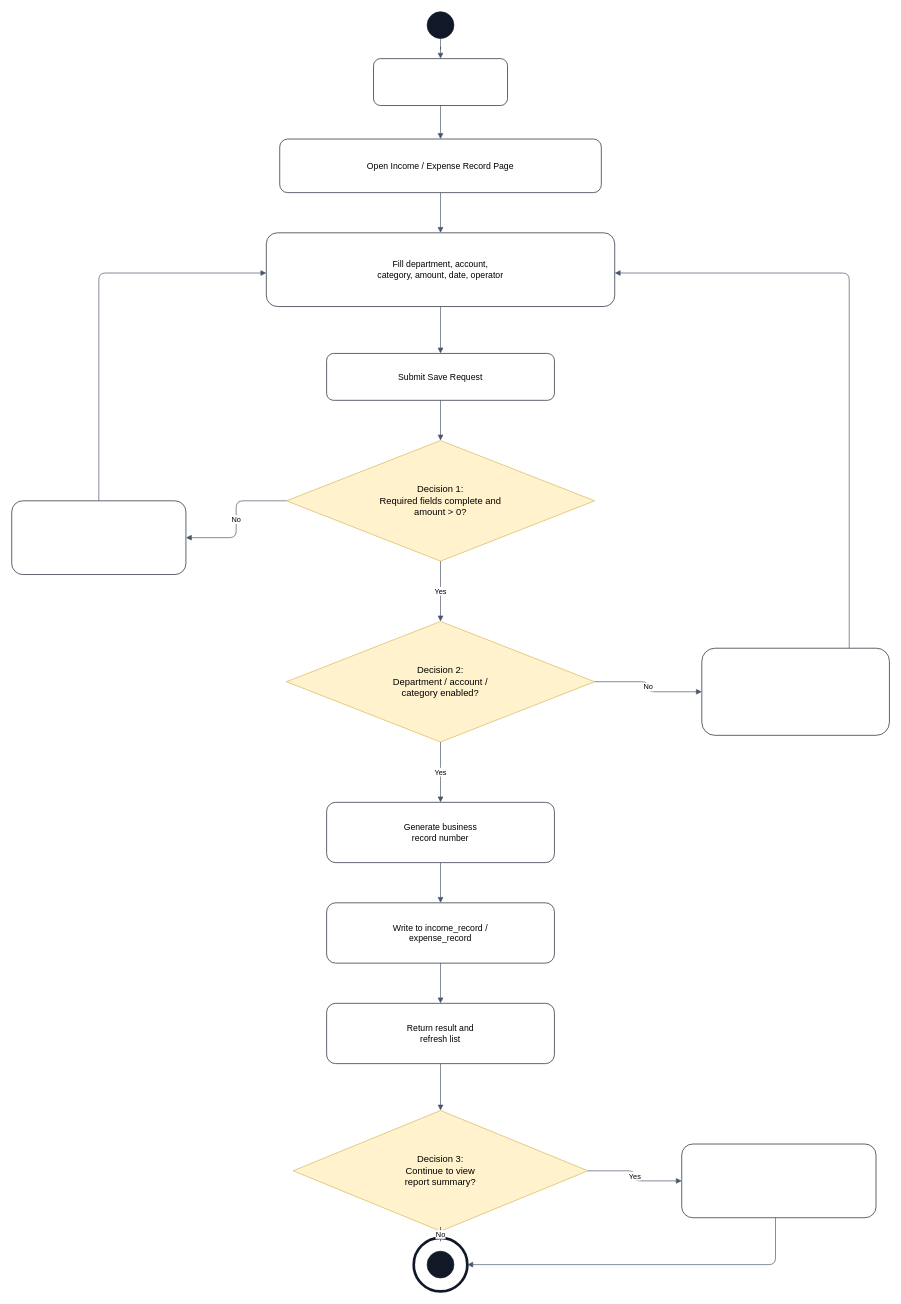
Image size: 901x1304. Some labels were removed from this diagram. The centre of each missing label's shape, as x and y in pixels:
Call report API and show trend / summary: [778,1180]
Reject save and tell user master data is disabled: [795,691]
Show error and return to form: [98,537]
Start: [440,82]
